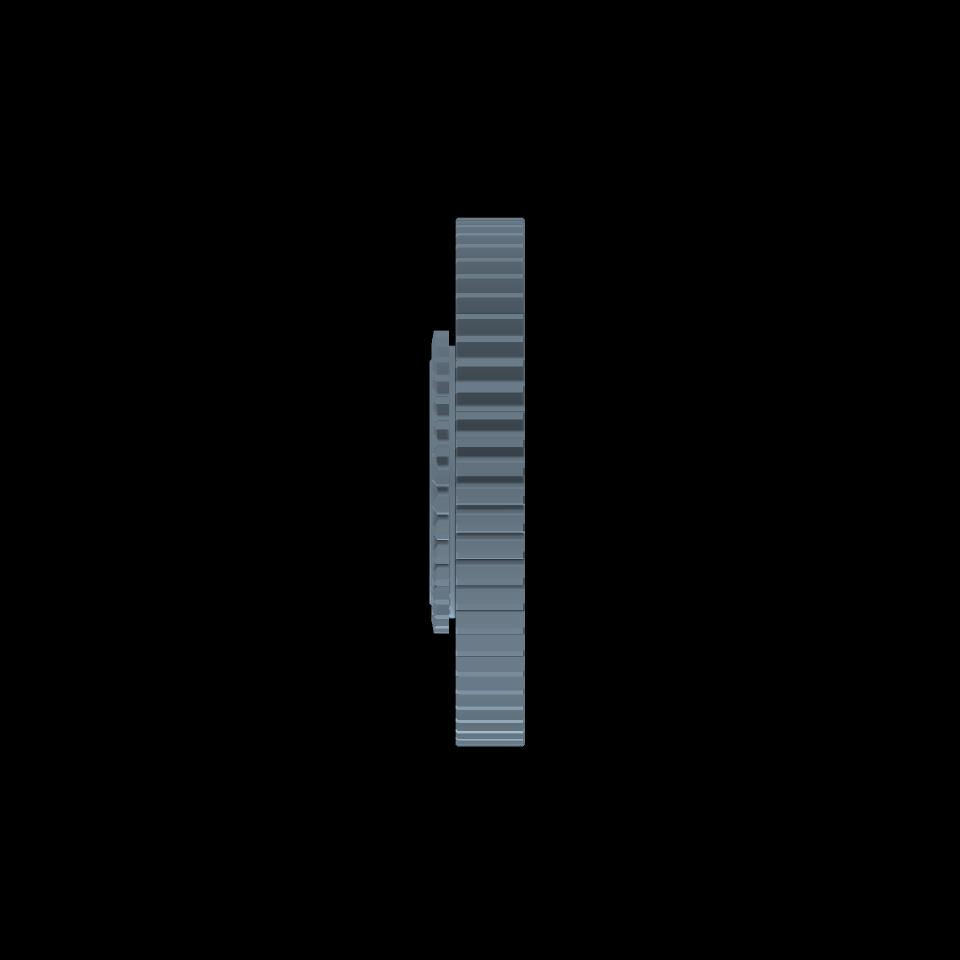Straight: (457, 217, 523, 746), (435, 332, 448, 632)
